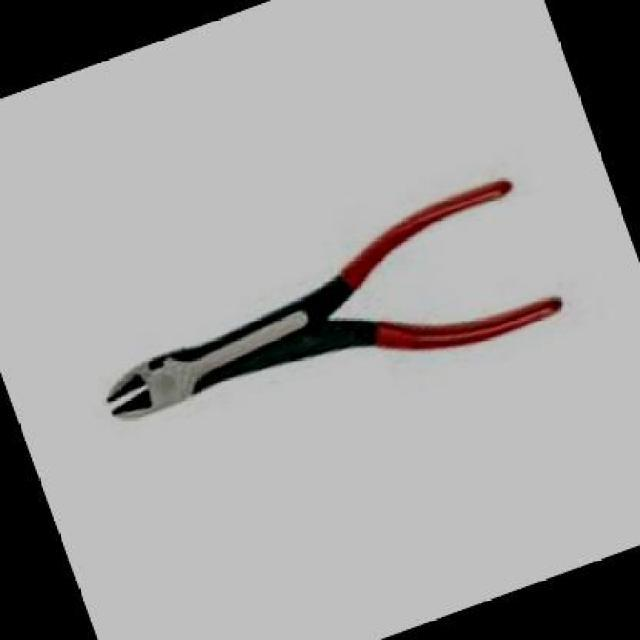pliers: (34, 124, 594, 526)
